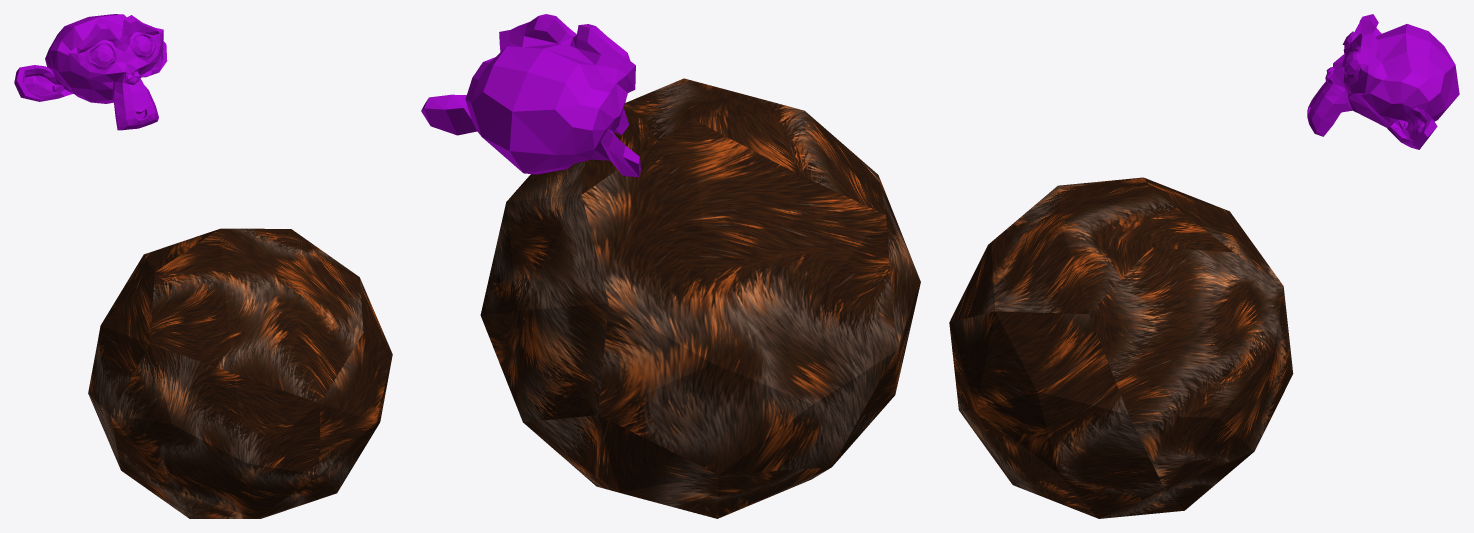
File: ball_05.dae
3 renders of one model, left to right at view 1: azimuth 30°, elevation 25°; view 2: azimuth 150°, elevation 25°; view 3: azimuth 270°, elevation 25°, orthographic. The views are drawn at different scales.
Parts seen in each view (by area): view 1: Icosphere, Suzanne; view 2: Icosphere, Suzanne; view 3: Icosphere, Suzanne.
Part boxes in pixels (x1,y1,x2,y2): Icosphere: (88,228,392,518); Suzanne: (14,14,167,130); Icosphere: (480,78,920,518); Suzanne: (421,14,640,177); Icosphere: (949,177,1293,518); Suzanne: (1307,14,1459,149).
Bounding box in the file's own units: 2 × 2.92 × 2.97.
